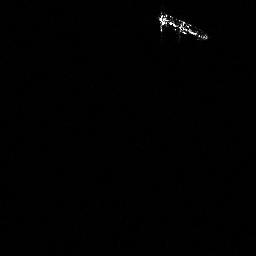ship: (156, 9, 209, 43)
